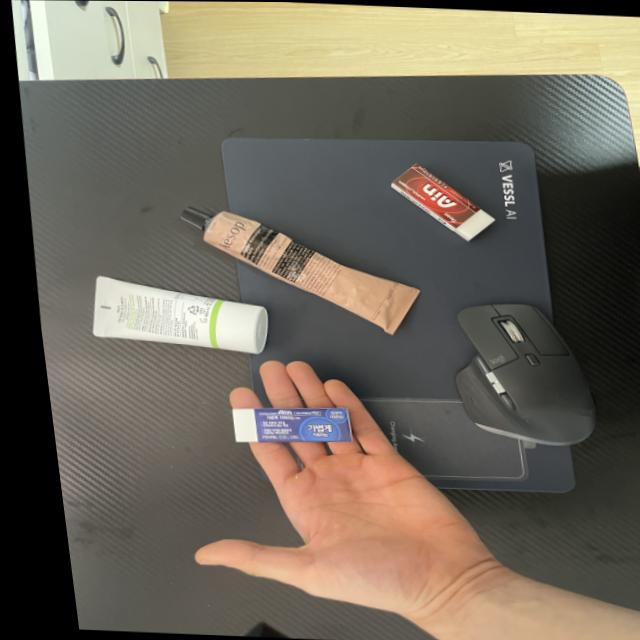blue: (211, 397, 349, 449)
red: (373, 155, 501, 245)
